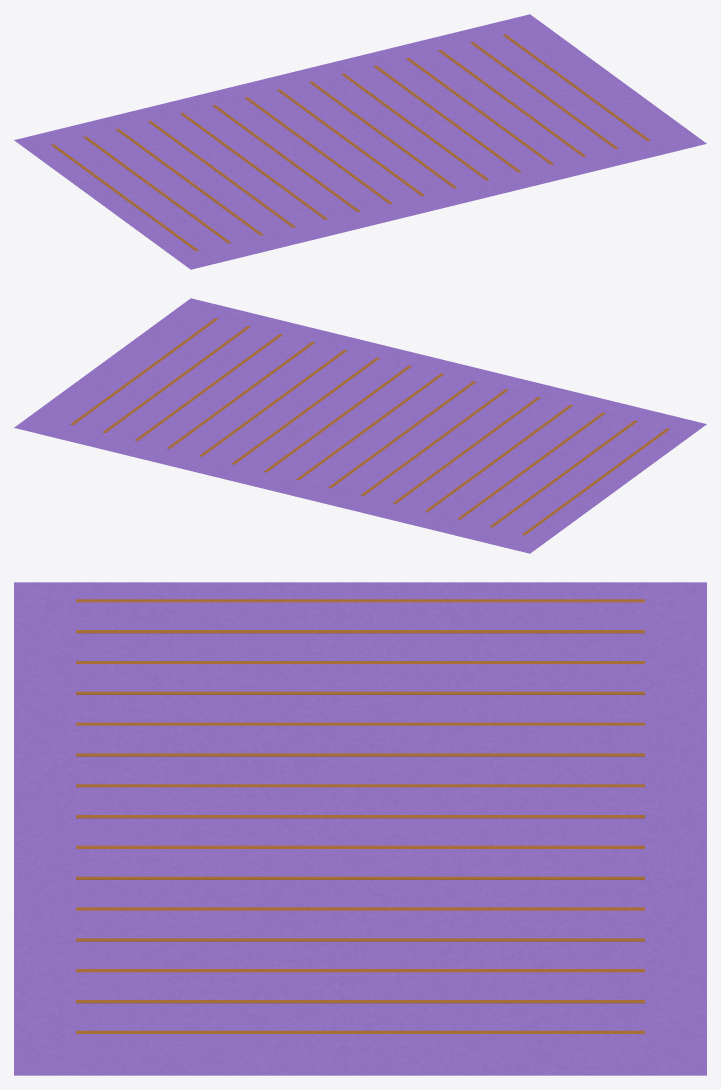
The model's file is 188_L113_PowerDomain_3.obj.
The picture shows the model from 3 angles, top to bottom: view 1: azimuth 30°, elevation 25°; view 2: azimuth 150°, elevation 25°; view 3: azimuth 270°, elevation 25°; orthographic projection. The views are drawn at different scales.
Visible parts, largest first — view 1: Part0000__PSMAT__PowerRail_Violet, Part0003__PSMAT__Copper_Exposed, Part0011__PSMAT__Copper_Exposed, Part0002__PSMAT__Copper_Exposed, Part0007__PSMAT__Copper_Exposed, Part0008__PSMAT__Copper_Exposed, Part0015__PSMAT__Copper_Exposed, Part0004__PSMAT__Copper_Exposed, Part0009__PSMAT__Copper_Exposed, Part0010__PSMAT__Copper_Exposed, Part0012__PSMAT__Copper_Exposed, Part0014__PSMAT__Copper_Exposed (+4 smaller); view 2: Part0000__PSMAT__PowerRail_Violet, Part0003__PSMAT__Copper_Exposed, Part0011__PSMAT__Copper_Exposed, Part0002__PSMAT__Copper_Exposed, Part0007__PSMAT__Copper_Exposed, Part0008__PSMAT__Copper_Exposed, Part0015__PSMAT__Copper_Exposed, Part0004__PSMAT__Copper_Exposed, Part0009__PSMAT__Copper_Exposed, Part0010__PSMAT__Copper_Exposed, Part0012__PSMAT__Copper_Exposed, Part0014__PSMAT__Copper_Exposed (+4 smaller); view 3: Part0000__PSMAT__PowerRail_Violet, Part0001__PSMAT__Copper_Exposed, Part0002__PSMAT__Copper_Exposed, Part0004__PSMAT__Copper_Exposed, Part0005__PSMAT__Copper_Exposed, Part0006__PSMAT__Copper_Exposed, Part0007__PSMAT__Copper_Exposed, Part0008__PSMAT__Copper_Exposed, Part0009__PSMAT__Copper_Exposed, Part0010__PSMAT__Copper_Exposed, Part0011__PSMAT__Copper_Exposed, Part0012__PSMAT__Copper_Exposed (+4 smaller).
Part boxes in pixels (box(x1,y1,x2,y2)): Part0000__PSMAT__PowerRail_Violet: box(14, 14, 706, 269); Part0003__PSMAT__Copper_Exposed: box(115, 128, 263, 235); Part0011__PSMAT__Copper_Exposed: box(373, 65, 521, 172); Part0002__PSMAT__Copper_Exposed: box(83, 136, 231, 243); Part0007__PSMAT__Copper_Exposed: box(244, 97, 392, 204); Part0008__PSMAT__Copper_Exposed: box(277, 89, 424, 196); Part0015__PSMAT__Copper_Exposed: box(502, 34, 650, 141); Part0004__PSMAT__Copper_Exposed: box(148, 120, 295, 227); Part0009__PSMAT__Copper_Exposed: box(309, 81, 456, 188); Part0010__PSMAT__Copper_Exposed: box(341, 73, 489, 180); Part0012__PSMAT__Copper_Exposed: box(406, 57, 553, 164); Part0014__PSMAT__Copper_Exposed: box(470, 42, 617, 148); Part0000__PSMAT__PowerRail_Violet: box(14, 298, 706, 553); Part0003__PSMAT__Copper_Exposed: box(457, 412, 605, 519); Part0011__PSMAT__Copper_Exposed: box(199, 349, 347, 456); Part0002__PSMAT__Copper_Exposed: box(489, 420, 637, 527); Part0007__PSMAT__Copper_Exposed: box(328, 381, 476, 488); Part0008__PSMAT__Copper_Exposed: box(296, 373, 443, 480); Part0015__PSMAT__Copper_Exposed: box(70, 318, 218, 425); Part0004__PSMAT__Copper_Exposed: box(425, 404, 572, 511); Part0009__PSMAT__Copper_Exposed: box(264, 365, 411, 472); Part0010__PSMAT__Copper_Exposed: box(231, 357, 379, 464); Part0012__PSMAT__Copper_Exposed: box(167, 341, 314, 448); Part0014__PSMAT__Copper_Exposed: box(103, 326, 250, 432); Part0000__PSMAT__PowerRail_Violet: box(14, 582, 706, 1075); Part0001__PSMAT__Copper_Exposed: box(76, 599, 644, 602); Part0002__PSMAT__Copper_Exposed: box(76, 630, 644, 633); Part0004__PSMAT__Copper_Exposed: box(76, 691, 644, 694); Part0005__PSMAT__Copper_Exposed: box(76, 722, 644, 725); Part0006__PSMAT__Copper_Exposed: box(76, 753, 644, 756); Part0007__PSMAT__Copper_Exposed: box(76, 784, 644, 787); Part0008__PSMAT__Copper_Exposed: box(76, 815, 644, 818); Part0009__PSMAT__Copper_Exposed: box(76, 845, 644, 848); Part0010__PSMAT__Copper_Exposed: box(76, 876, 644, 879); Part0011__PSMAT__Copper_Exposed: box(76, 907, 644, 910); Part0012__PSMAT__Copper_Exposed: box(76, 938, 644, 941).
Bounding box in the file's own units: 0.16 × 0.000498 × 0.095.
Materials: 2 (2 with a texture image).
